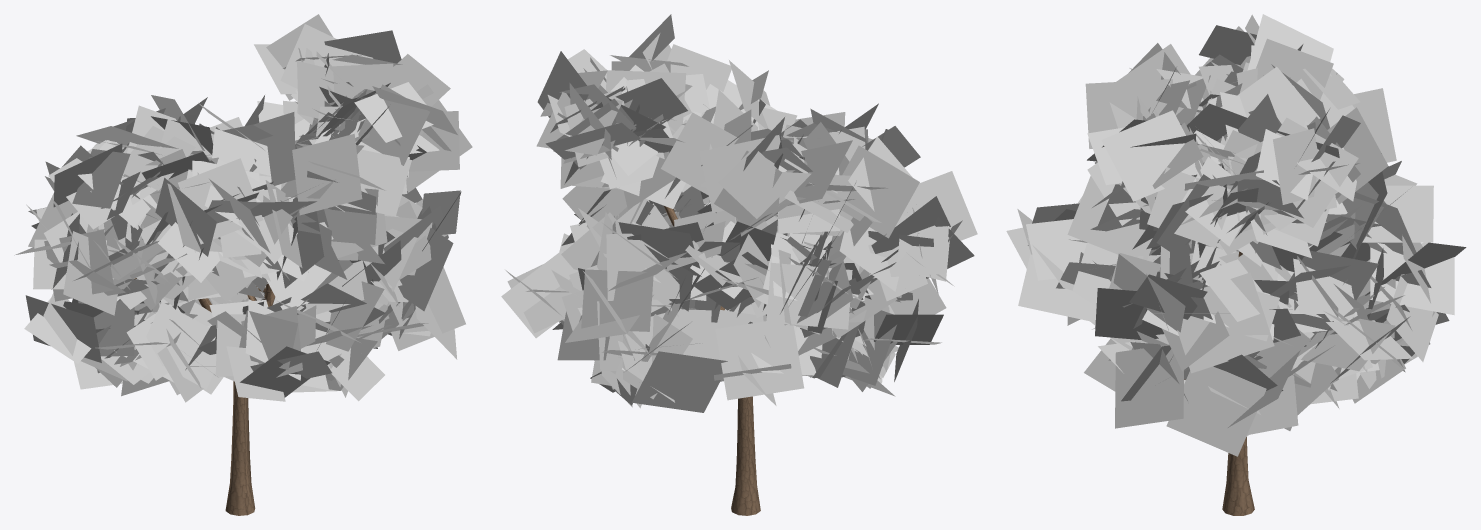
The model's file is OakCrown_v04_LOD0.fbx.
3 views of the same model, side by side, from view 1: azimuth 30°, elevation 25°; view 2: azimuth 150°, elevation 25°; view 3: azimuth 270°, elevation 25° (orthographic). The views are drawn at different scales.
Parts seen in each view (by area): view 1: Foliage, Bark; view 2: Foliage, Bark; view 3: Foliage, Bark.
Part boxes in pixels (bbox=[...]): Foliage: bbox=[14, 14, 472, 402]; Bark: bbox=[134, 278, 275, 515]; Foliage: bbox=[501, 14, 977, 412]; Bark: bbox=[664, 206, 760, 515]; Foliage: bbox=[1006, 14, 1466, 456]; Bark: bbox=[1184, 252, 1254, 515].
Bounding box in the file's own units: 12.69 × 12.61 × 11.43.
